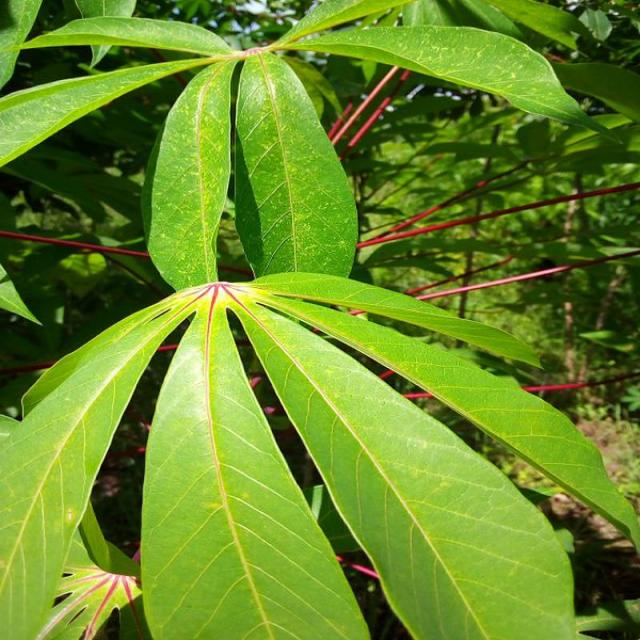cassava leaf: (1, 4, 637, 638), (224, 290, 578, 638), (140, 286, 370, 638), (233, 48, 359, 279), (140, 54, 234, 292)
